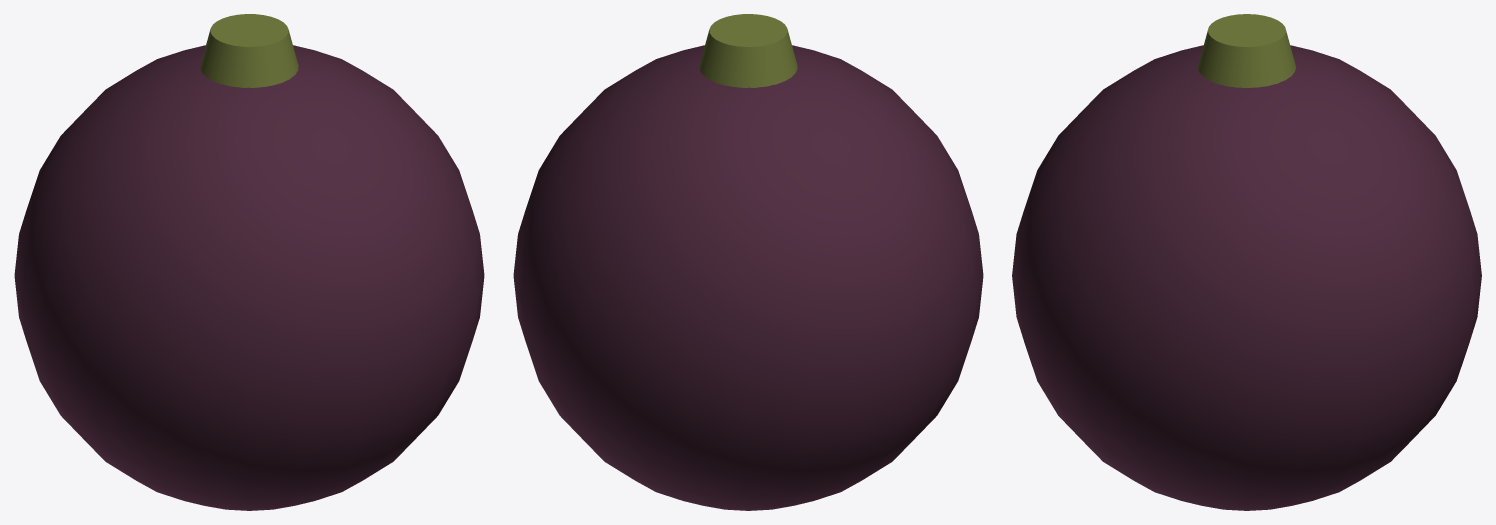
File: wp-figues.glb
The picture shows the model from 3 angles, left to right: view 1: azimuth 30°, elevation 25°; view 2: azimuth 150°, elevation 25°; view 3: azimuth 270°, elevation 25°; orthographic projection.
Parts seen in each view (by area): view 1: wp-figues; view 2: wp-figues; view 3: wp-figues.
Boxes of the visible parts, <box> form: wp-figues: <box>14,14,484,510</box>; wp-figues: <box>513,14,983,510</box>; wp-figues: <box>1012,14,1481,510</box>.
Size of the model in its own units: 0.065 by 0.07 by 0.065.
